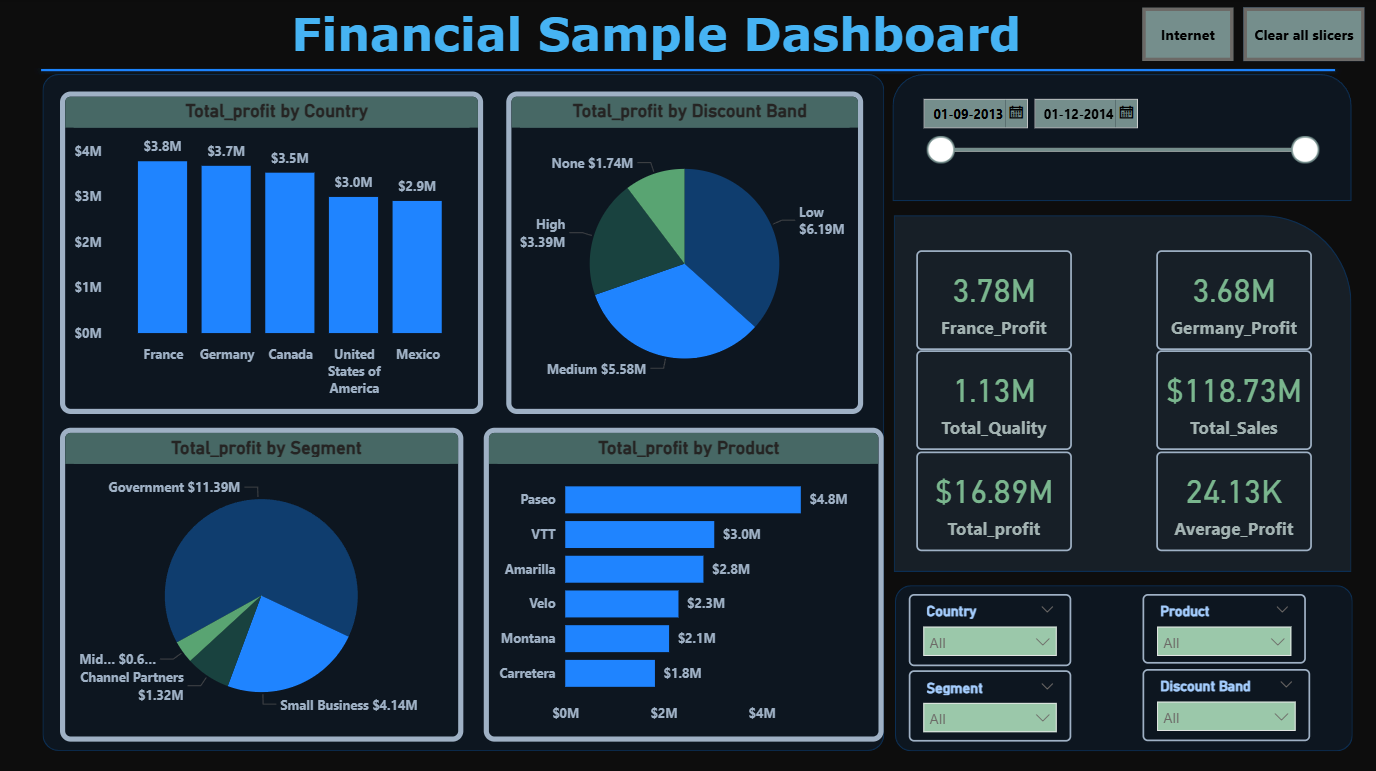

The dashboard page shown, as its layout file describes it:
{"tool":"powerbi","page":{"name":"Page 1","canvas":[1280,720],"ordinal":0},"visuals":[{"type":"textbox","box":[266.2,0,699.8,64.5],"z":0},{"type":"shape","box":[30.2,57.9,1219.7,12.1],"z":1000},{"type":"shape","box":[39.8,70,783,629.8],"z":2000},{"type":"shape","box":[832.4,545.3,425.9,154.4],"z":3000},{"type":"shape","box":[830,70,427.1,118.2],"z":4000},{"type":"shape","box":[831.2,201.5,425.9,331.8],"z":5000},{"type":"card","fields":{"Values":["My Dax function.Total_profit"]},"box":[851.7,421,144.8,92.9],"z":6000},{"type":"card","fields":{"Values":["My Dax function.Germany_Profit"]},"box":[1076.1,234,144.8,92.9],"z":7000},{"type":"card","fields":{"Values":["My Dax function.Total_Sales"]},"box":[1076.1,326.9,144.8,92.9],"z":8000},{"type":"card","fields":{"Values":["My Dax function.Average_Profit"]},"box":[1076.1,421,144.8,92.9],"z":9000},{"type":"card","fields":{"Values":["My Dax function.France_Profit"]},"box":[851.7,234,144.8,92.9],"z":10000},{"type":"card","fields":{"Values":["My Dax function.Total_Quality"]},"box":[851.7,326.9,144.8,92.9],"z":11000},{"type":"slicer","fields":{"Values":["financials.Date"]},"box":[846.9,82,388.5,92.9],"z":12000},{"type":"slicer","fields":{"Values":["financials.Country"]},"box":[845.7,553.8,150.8,67.6],"z":13000},{"type":"slicer","fields":{"Values":["financials.Discount Band"]},"box":[1062.9,623.7,155.6,67.6],"z":14000},{"type":"slicer","fields":{"Values":["financials.Product"]},"box":[1062.9,553.8,152,65.1],"z":15000},{"type":"slicer","fields":{"Values":["financials.Segment"]},"box":[845.7,624.9,150.8,66.4],"z":16000},{"type":"clusteredColumnChart","fields":{"Category":["financials.Country"],"Y":["My Dax function.Total_profit"]},"box":[56.2,85.7,393.6,299.9],"z":17000},{"type":"clusteredBarChart","fields":{"Category":["financials.Product"],"Y":["My Dax function.Total_profit"]},"box":[449.9,399,372.2,291.9],"z":18000},{"type":"pieChart","fields":{"Y":["My Dax function.Total_profit"],"Category":["financials.Discount Band"]},"box":[471.3,85.7,332.1,299.9],"z":19000},{"type":"pieChart","fields":{"Y":["My Dax function.Total_profit"],"Category":["financials.Segment"]},"box":[56.2,399,374.9,291.9],"z":20000},{"type":"actionButton","box":[1157,8.4,112.2,49.5],"z":21000},{"type":"actionButton","box":[1062.9,8.4,84.5,49.5],"z":22000}]}

Visuals, with their boxes in screenshot pixels (x1, y1, x2, y2), scaled from the page's 1280x720 canvas onto the 1376x771 screenshot:
textbox: (x1=286, y1=0, x2=1038, y2=69)
shape: (x1=32, y1=62, x2=1344, y2=75)
shape: (x1=43, y1=75, x2=885, y2=749)
shape: (x1=895, y1=584, x2=1353, y2=749)
shape: (x1=892, y1=75, x2=1351, y2=202)
shape: (x1=894, y1=216, x2=1351, y2=571)
card - My Dax function.Total_profit: (x1=916, y1=451, x2=1071, y2=550)
card - My Dax function.Germany_Profit: (x1=1157, y1=251, x2=1312, y2=350)
card - My Dax function.Total_Sales: (x1=1157, y1=350, x2=1312, y2=450)
card - My Dax function.Average_Profit: (x1=1157, y1=451, x2=1312, y2=550)
card - My Dax function.France_Profit: (x1=916, y1=251, x2=1071, y2=350)
card - My Dax function.Total_Quality: (x1=916, y1=350, x2=1071, y2=450)
slicer - financials.Date: (x1=910, y1=88, x2=1328, y2=187)
slicer - financials.Country: (x1=909, y1=593, x2=1071, y2=665)
slicer - financials.Discount Band: (x1=1143, y1=668, x2=1310, y2=740)
slicer - financials.Product: (x1=1143, y1=593, x2=1306, y2=663)
slicer - financials.Segment: (x1=909, y1=669, x2=1071, y2=740)
clusteredColumnChart - financials.Country x My Dax function.Total_profit: (x1=60, y1=92, x2=484, y2=413)
clusteredBarChart - financials.Product x My Dax function.Total_profit: (x1=484, y1=427, x2=884, y2=740)
pieChart - My Dax function.Total_profit x financials.Discount Band: (x1=507, y1=92, x2=864, y2=413)
pieChart - My Dax function.Total_profit x financials.Segment: (x1=60, y1=427, x2=463, y2=740)
actionButton: (x1=1244, y1=9, x2=1364, y2=62)
actionButton: (x1=1143, y1=9, x2=1233, y2=62)
